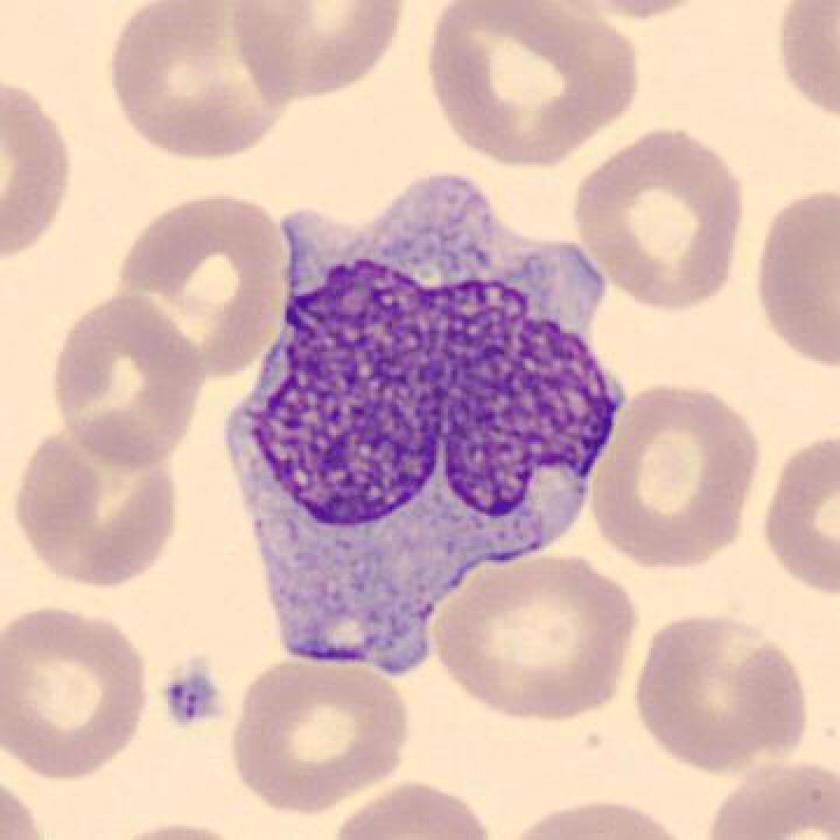monocyte: (209, 151, 638, 686)
